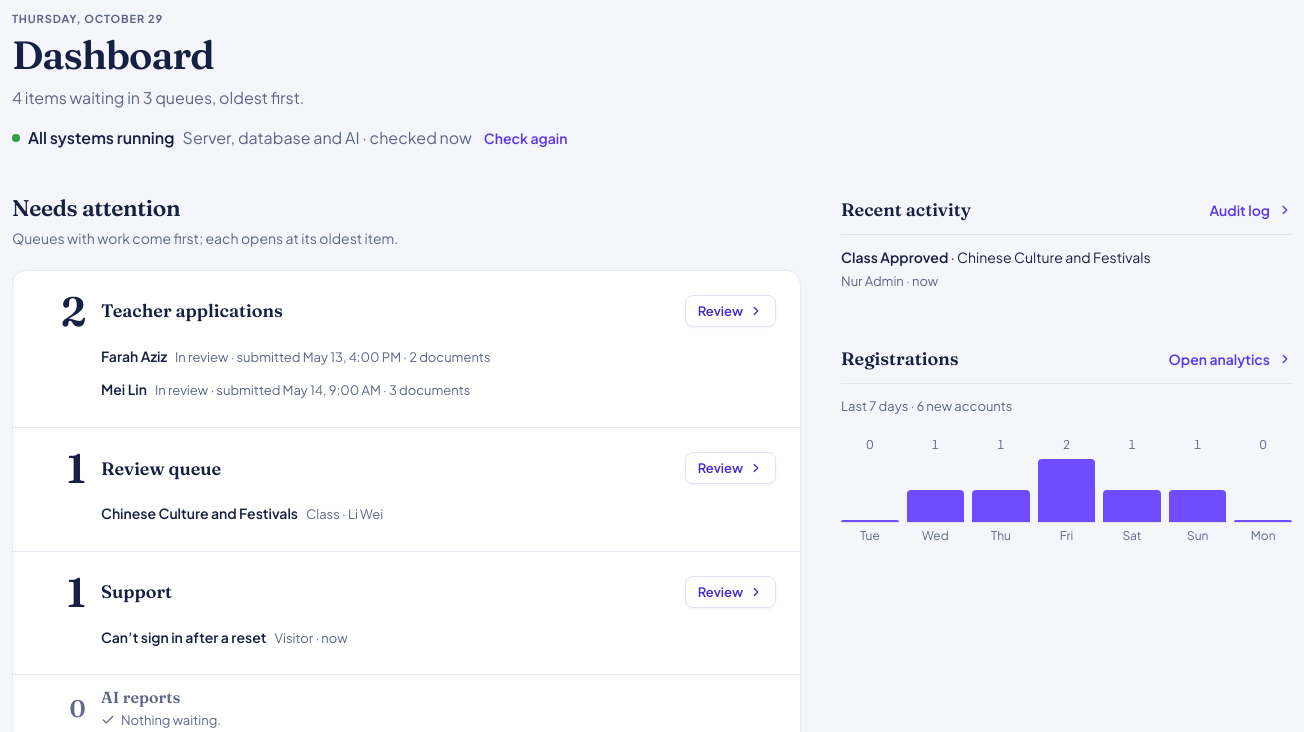
Test: AdminDashboardPage › reports the system status from the health check
Expected: the message with test id "admin-home-health" shows "All systems running", [28,127,175,148]
Click the button "Check again" at coordinates (526, 138), box [484,122,567,154]
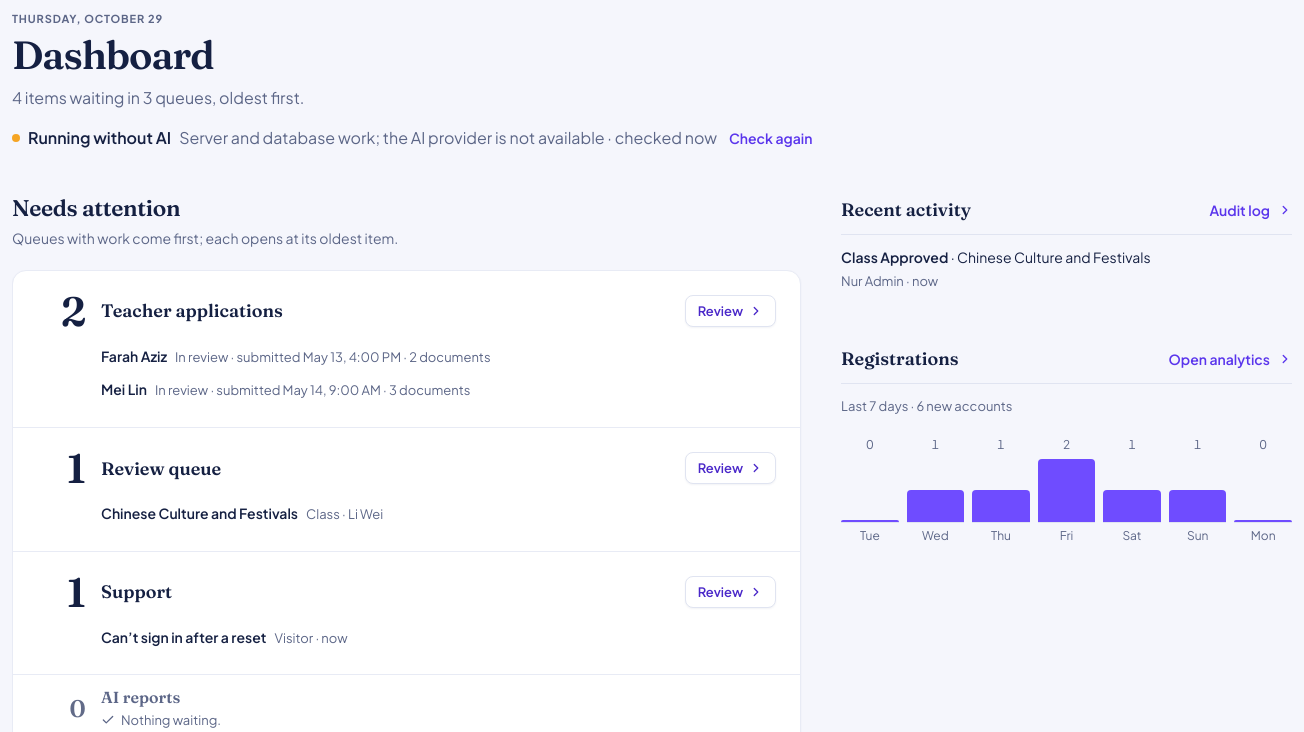
Now the message with test id "admin-home-health" shows "Running without AI", box [28,127,171,148]
Click the button "Check again" at coordinates (771, 138), box [729,122,812,154]
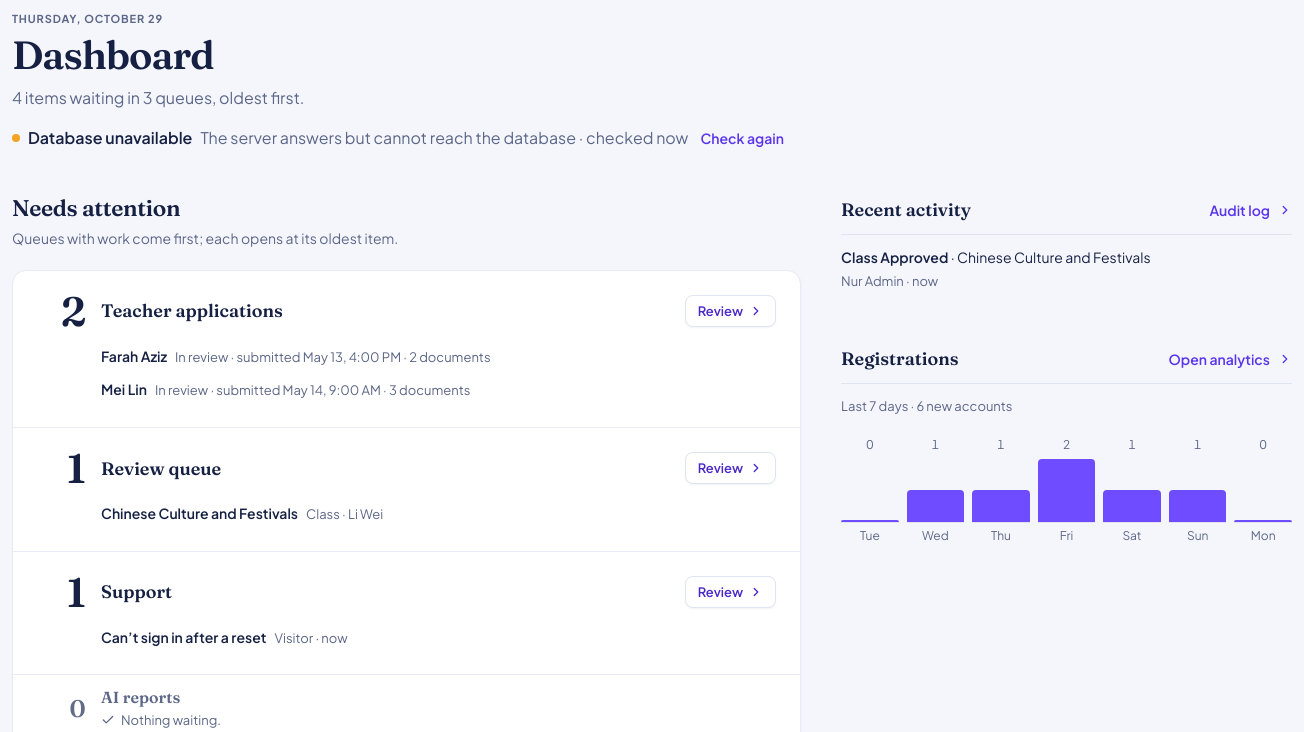
Now the message with test id "admin-home-health" shows "Database unavailable", box [28,127,192,148]
Click the button "Check again" at coordinates (742, 138), box [700,122,784,154]
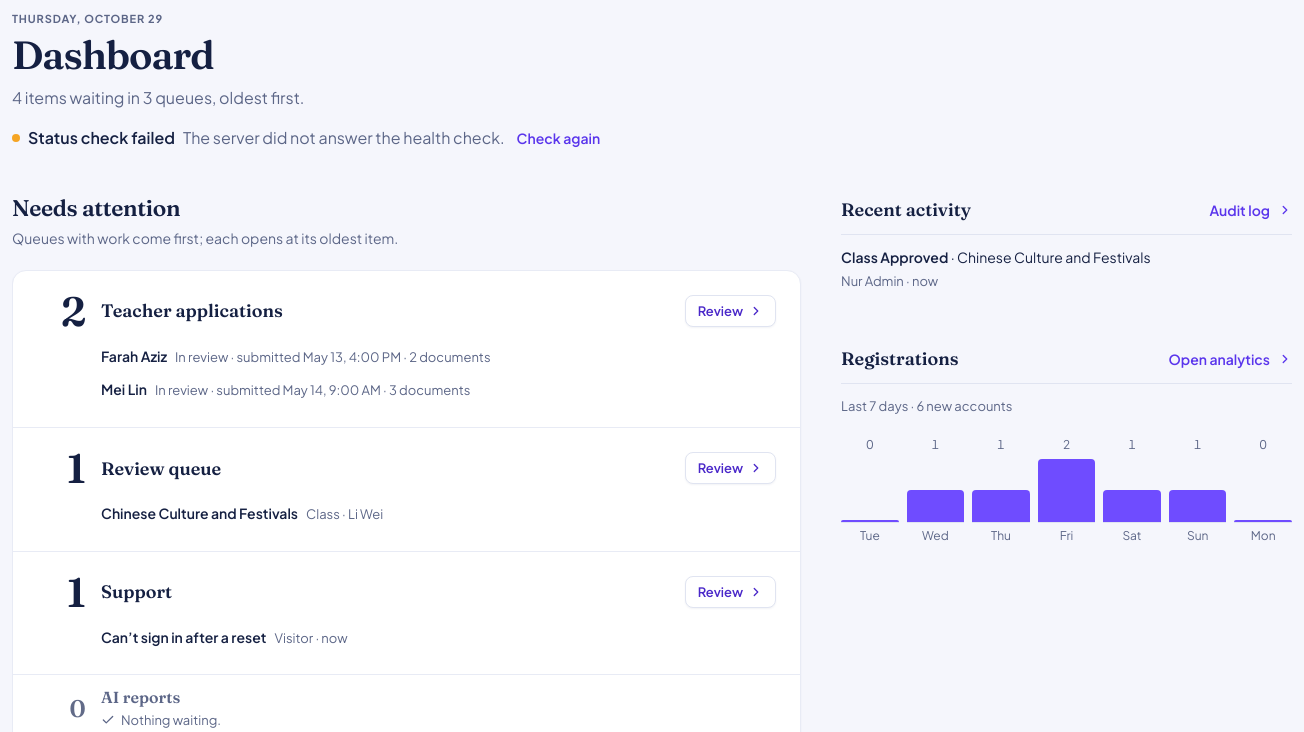
Now the message with test id "admin-home-health" shows "Status check failed", box [28,127,175,148]
